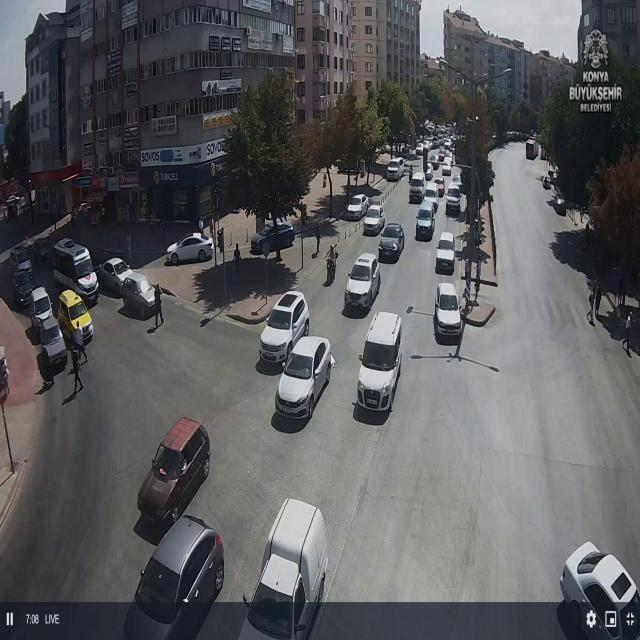Car: (123, 514, 223, 635), (136, 419, 210, 529), (560, 544, 638, 638), (276, 335, 334, 418), (356, 312, 404, 410), (260, 290, 311, 364), (57, 290, 94, 349), (344, 253, 381, 310), (119, 271, 160, 317), (434, 281, 464, 342), (36, 317, 68, 374), (167, 233, 217, 264), (96, 258, 136, 296), (249, 223, 295, 255), (27, 286, 54, 329), (378, 224, 404, 262), (12, 269, 36, 308), (436, 232, 456, 274), (362, 204, 386, 234), (414, 206, 436, 238), (346, 192, 370, 220), (446, 182, 462, 215), (10, 245, 31, 269), (386, 157, 406, 181), (423, 182, 439, 210), (410, 171, 426, 197), (554, 195, 566, 216), (451, 174, 463, 192), (434, 177, 445, 196), (424, 162, 434, 180), (430, 150, 440, 168), (442, 160, 452, 176), (415, 144, 425, 156), (422, 140, 432, 152), (444, 151, 453, 164), (444, 139, 453, 150), (438, 150, 446, 161)
Truck: (237, 499, 329, 635), (51, 238, 100, 304)
